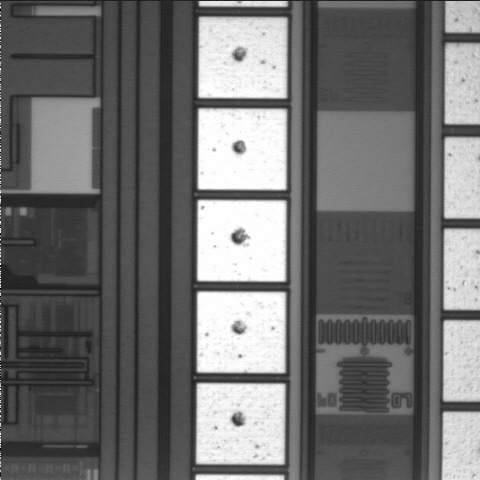pad: (197, 200, 286, 282), (198, 17, 287, 98), (198, 109, 287, 190), (197, 292, 286, 373), (196, 383, 285, 464)
